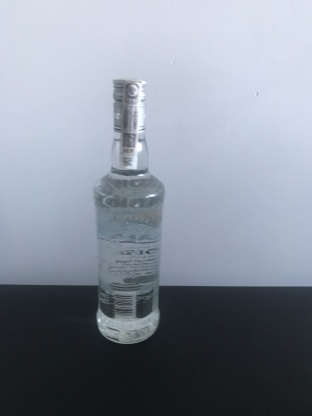nakretka: (109, 73, 148, 135)
